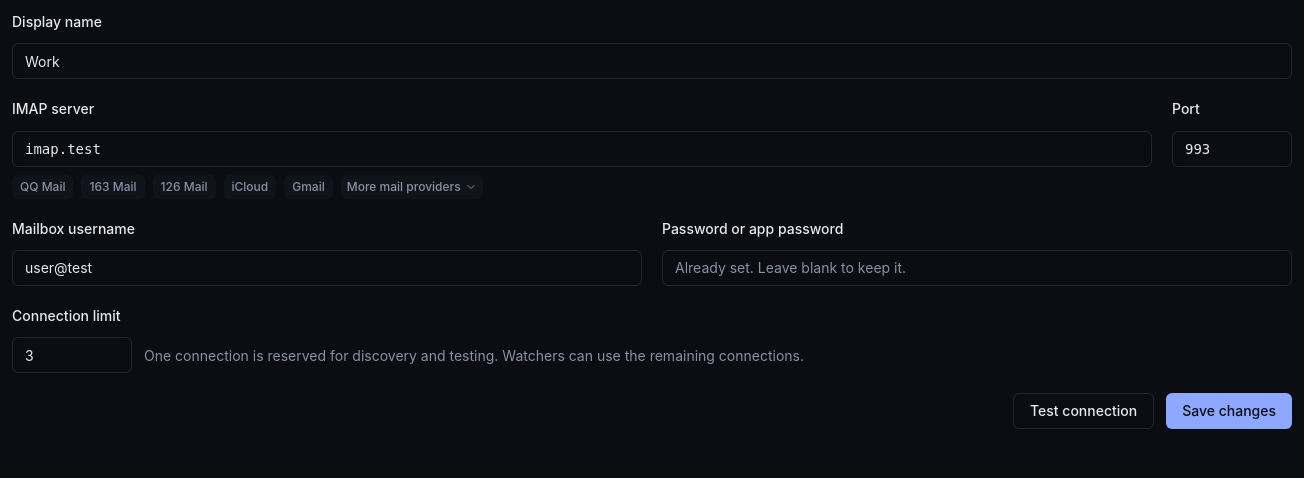
it: lowering a mailbox limit blocks saving an over-budget subscription set
Replace the text in the number field labelled "Connection limit" with "2". click: (72, 355)
box: left=12, top=337, right=132, bottom=373
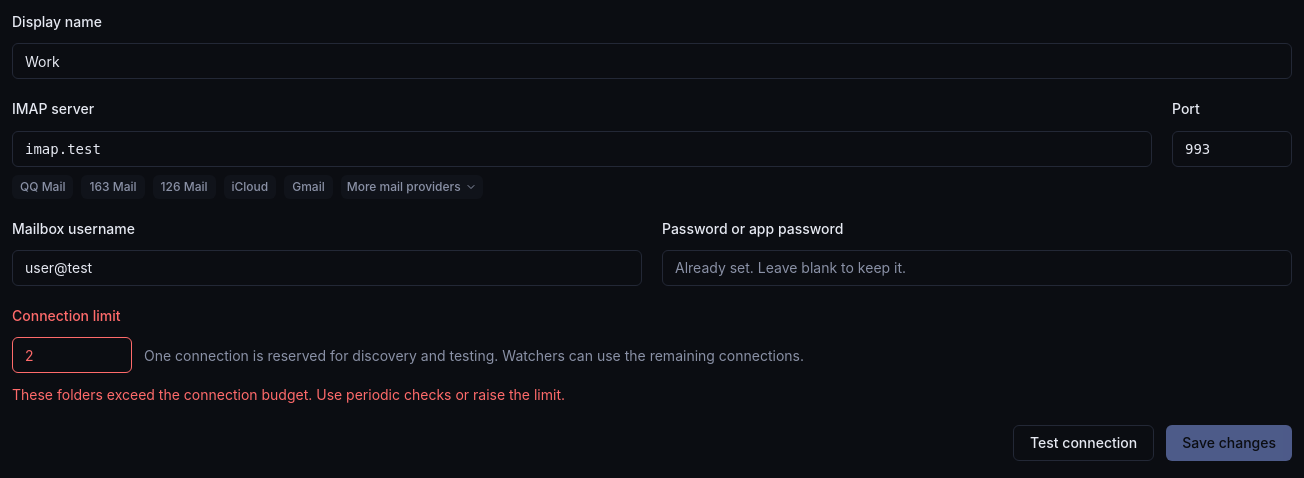
Check: the button "Save changes" is disabled, box left=1166, top=425, right=1292, bottom=461
Check: the text "These folders exceed the connection budget. Use periodic checks or raise the limit." is shown, box left=12, top=386, right=565, bottom=403
